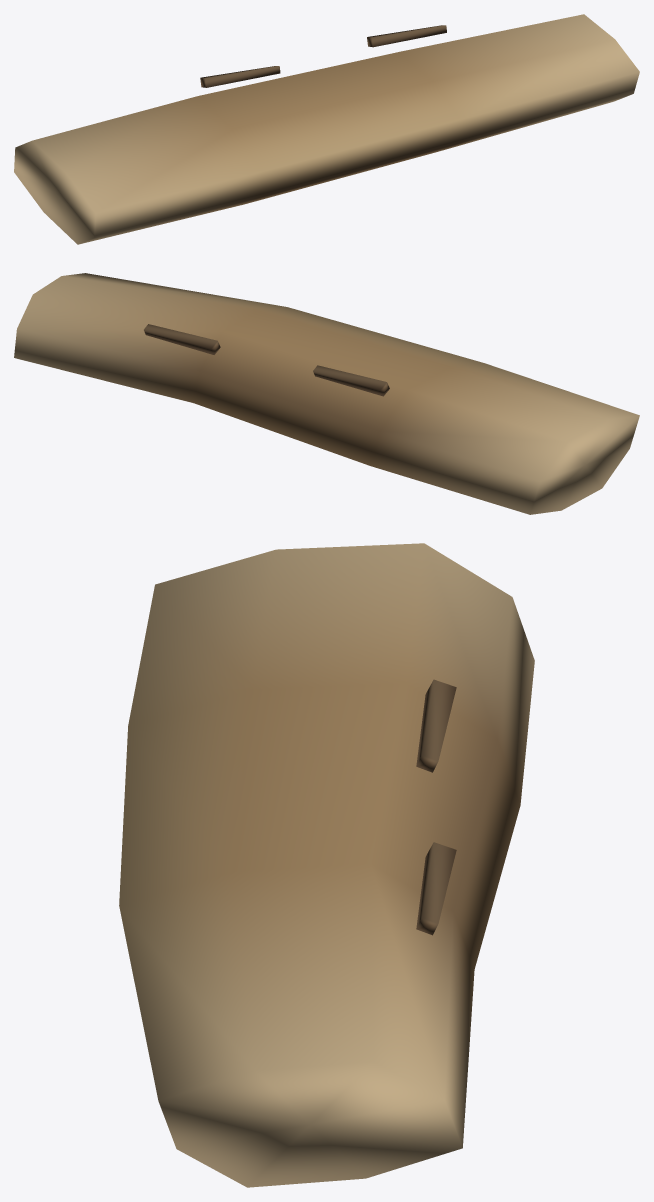
Rendered from beach-debris-log-v1.glb.
3 views of the same model, one above another, from view 1: azimuth 30°, elevation 25°; view 2: azimuth 150°, elevation 25°; view 3: azimuth 270°, elevation 25° (orthographic). The views are drawn at different scales.
Visible parts, largest first — view 1: beach-debris-log-v1; view 2: beach-debris-log-v1; view 3: beach-debris-log-v1.
Boxes of the visible parts, x1,y1,x2,y2 form: beach-debris-log-v1: (14,14,639,244); beach-debris-log-v1: (14,273,639,514); beach-debris-log-v1: (119,543,534,1187).
Size of the model in its own units: 1.65 by 0.2722 by 0.5445.
